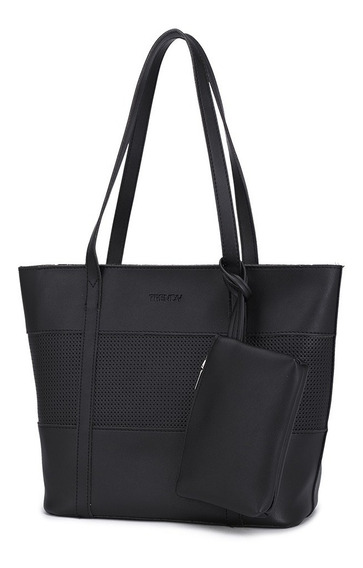cartera: (17, 27, 345, 530)
